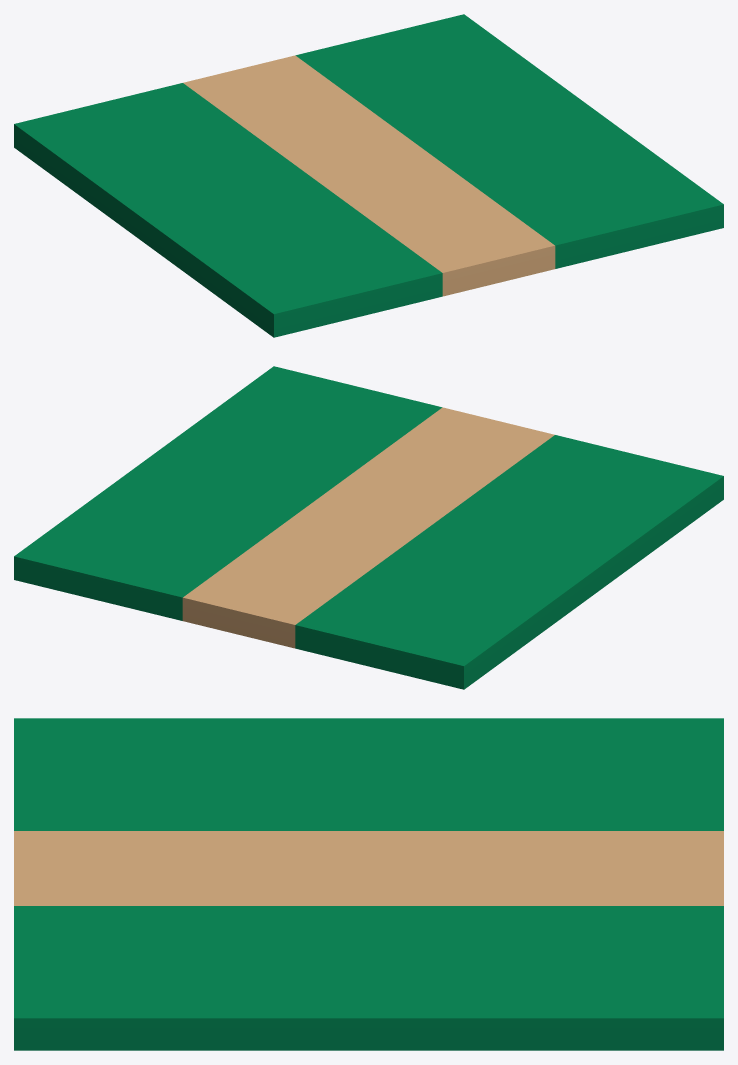
Rendered from park_road_straight.glb.
3 renders of one model, top to bottom at view 1: azimuth 30°, elevation 25°; view 2: azimuth 150°, elevation 25°; view 3: azimuth 270°, elevation 25°, orthographic. The views are drawn at different scales.
Parts seen in each view (by area): view 1: park_road_straight; view 2: park_road_straight; view 3: park_road_straight.
Part boxes in pixels (bbox=[...]): park_road_straight: bbox=[14, 14, 723, 337]; park_road_straight: bbox=[14, 366, 723, 689]; park_road_straight: bbox=[14, 718, 723, 1050].
Bounding box in the file's own units: 2 × 0.1 × 2.
1 material, 1 textured.
